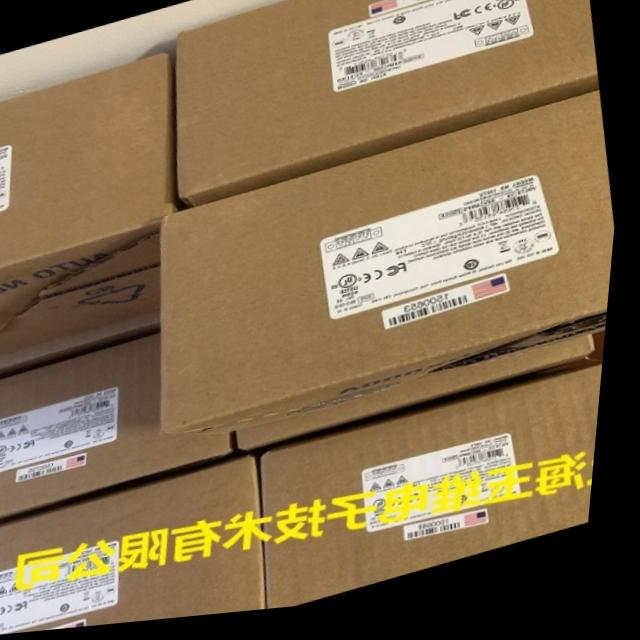box: (165, 102, 619, 439), (178, 0, 602, 213), (271, 372, 610, 615), (0, 56, 184, 358), (0, 461, 276, 636), (0, 337, 242, 522), (246, 346, 602, 458)
